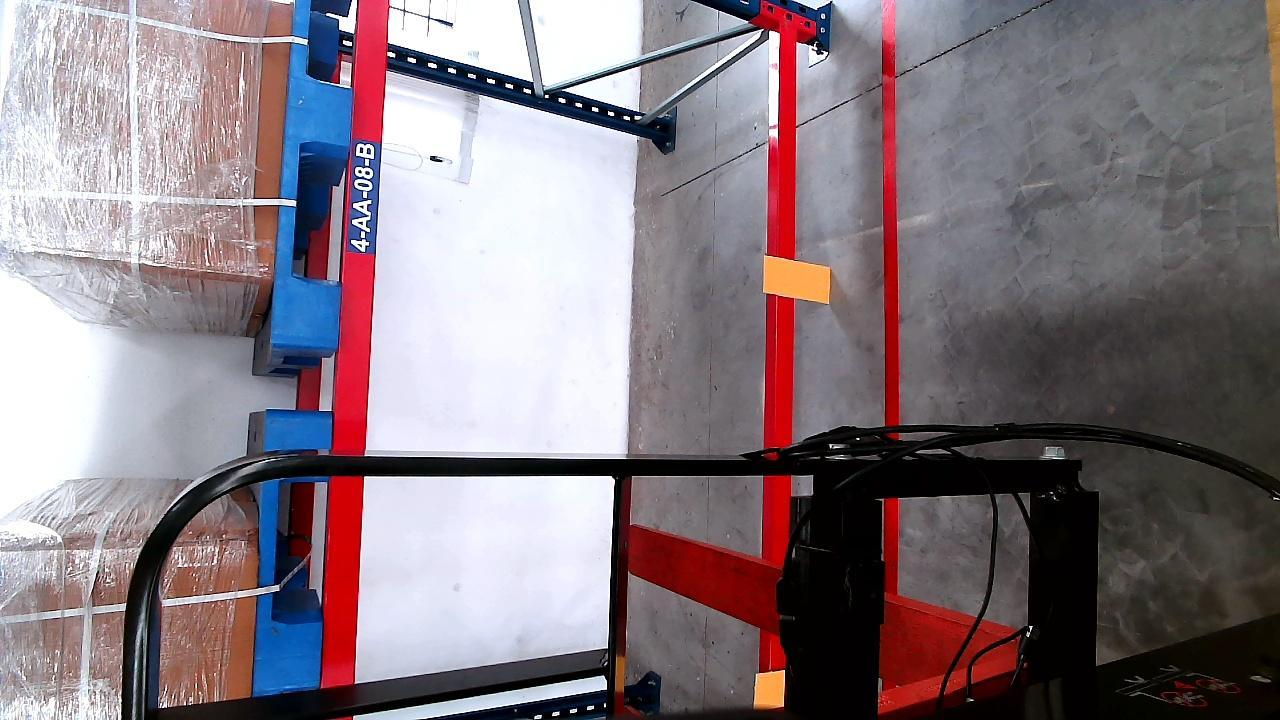red_line: (881, 0, 903, 439)
